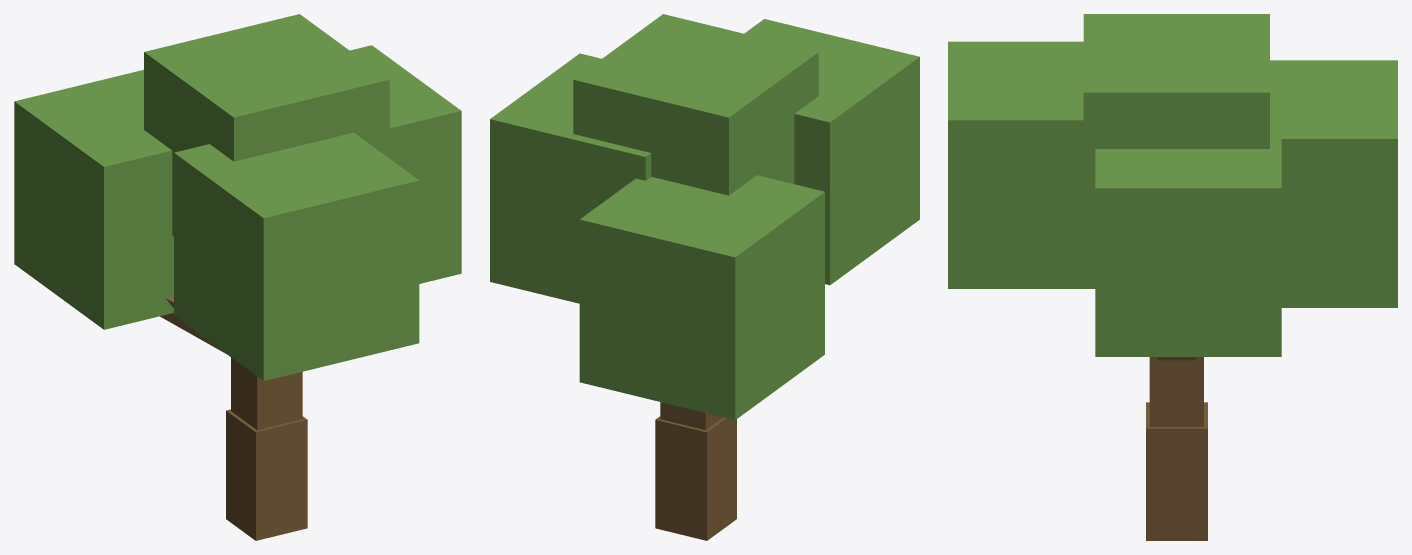
The model's file is tree.gltf.
The picture shows the model from 3 angles, left to right: view 1: azimuth 30°, elevation 25°; view 2: azimuth 150°, elevation 25°; view 3: azimuth 270°, elevation 25°; orthographic projection. The views are drawn at different scales.
Parts seen in each view (by area): view 1: leaves, main (×2); view 2: leaves, main (×2); view 3: leaves, main (×2).
Boxes of the visible parts, x1,y1,x2,y2 form: leaves: (14,14,461,380); main (×2): (226,357,307,540); leaves: (490,14,919,420); main (×2): (655,402,736,540); leaves: (948,14,1397,356); main (×2): (1146,357,1207,540).
Size of the model in its own units: 5.81 by 8.44 by 7.25.
Materials: 1 (1 with a texture image).
